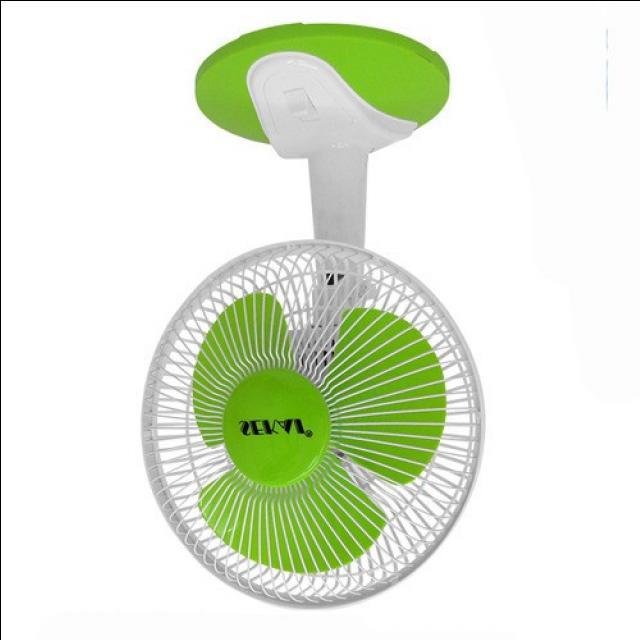fan: (128, 22, 486, 626)
